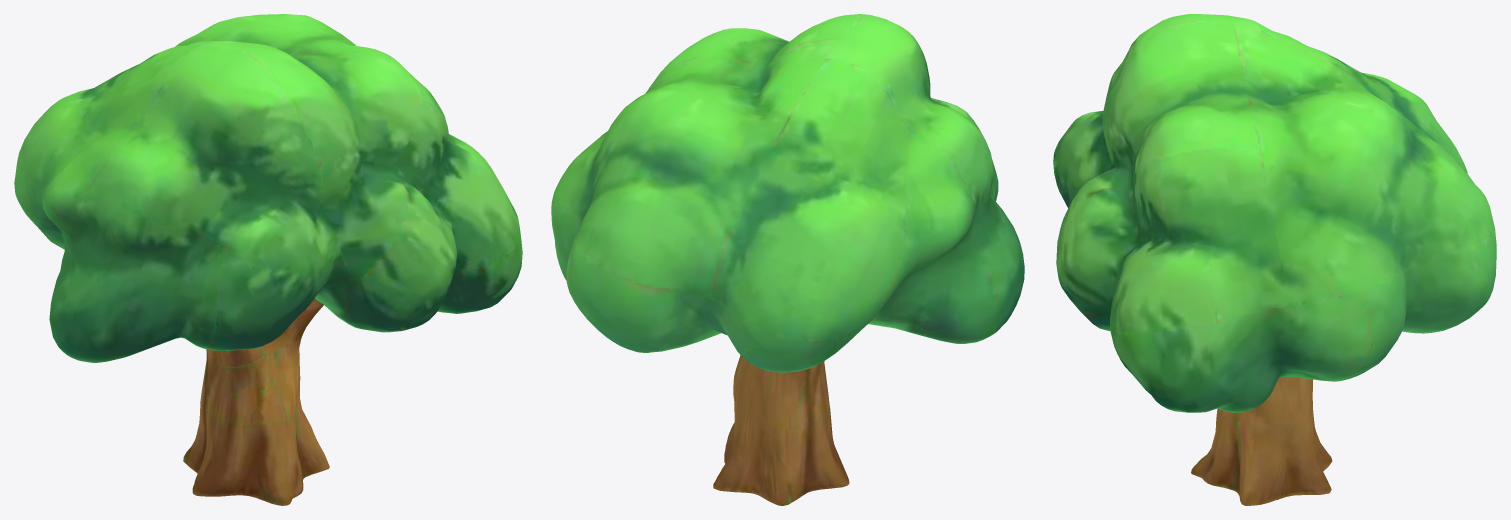
The model's file is oak.glb.
3 views of the same model, side by side, from view 1: azimuth 30°, elevation 25°; view 2: azimuth 150°, elevation 25°; view 3: azimuth 270°, elevation 25° (orthographic). The views are drawn at different scales.
Bounding box in the file's own units: 1.89 × 1.9 × 1.75.
1 material, 1 textured.
